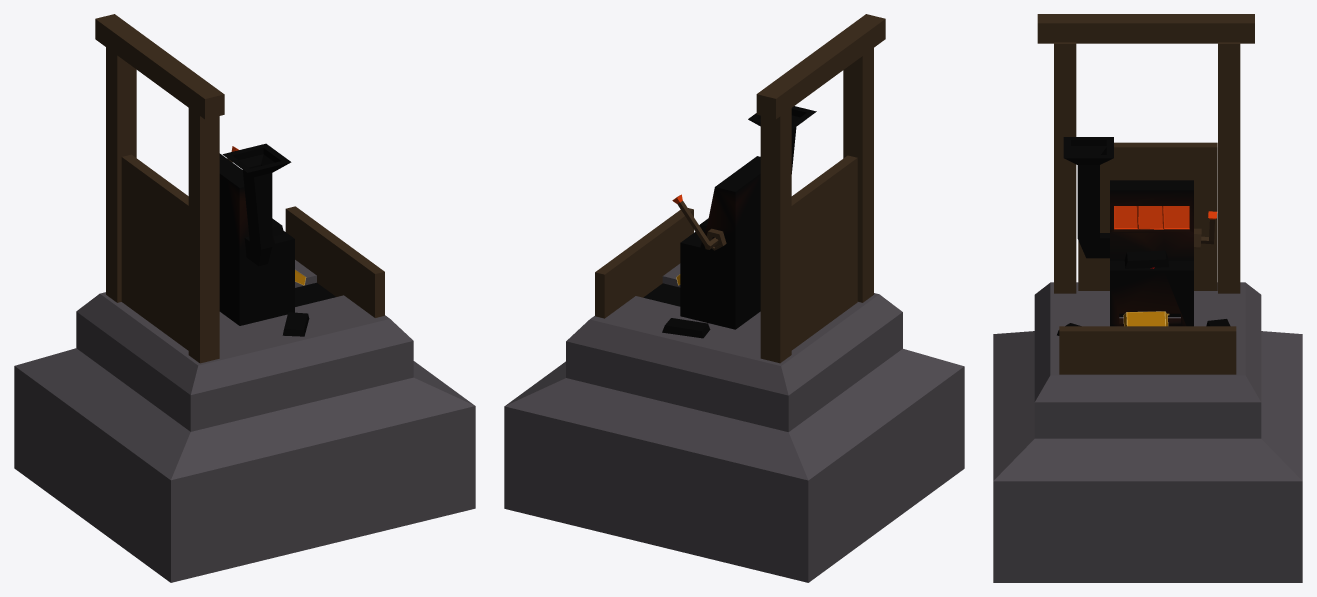
File: base_bandit.fbx
The picture shows the model from 3 angles, left to right: view 1: azimuth 30°, elevation 25°; view 2: azimuth 150°, elevation 25°; view 3: azimuth 270°, elevation 25°; orthographic projection.
Parts seen in each view (by area): view 1: Cube.019, Cube.011, Cube.009; view 2: Cube.019, Cube.011; view 3: Cube.019, Cube.011, Cube.007, Cube.003, Cube.004, Cube.005.
Part boxes in pixels (x1,y1,x2,y2): Cube.019: [14, 14, 475, 582]; Cube.011: [219, 143, 309, 336]; Cube.009: [295, 282, 335, 306]; Cube.019: [504, 14, 964, 582]; Cube.011: [662, 106, 816, 338]; Cube.019: [993, 14, 1302, 582]; Cube.011: [1057, 137, 1230, 335]; Cube.007: [1123, 311, 1168, 326]; Cube.003: [1163, 206, 1189, 229]; Cube.004: [1138, 206, 1163, 229]; Cube.005: [1114, 206, 1138, 229].
Bounding box in the file's own units: 3118 × 4435 × 2772.
